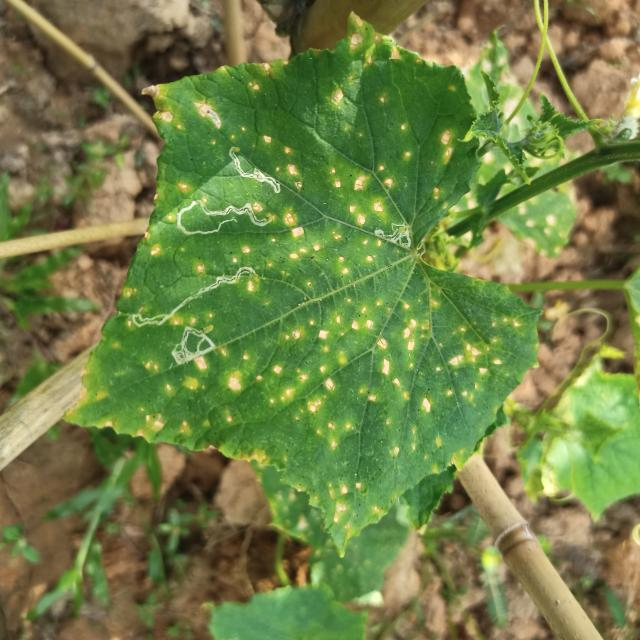disease_cucumber: (111, 287, 519, 526), (326, 128, 444, 227), (279, 193, 382, 275), (326, 15, 405, 107), (140, 82, 246, 146), (261, 129, 304, 188), (188, 243, 261, 274), (243, 61, 293, 93), (438, 124, 458, 169)
